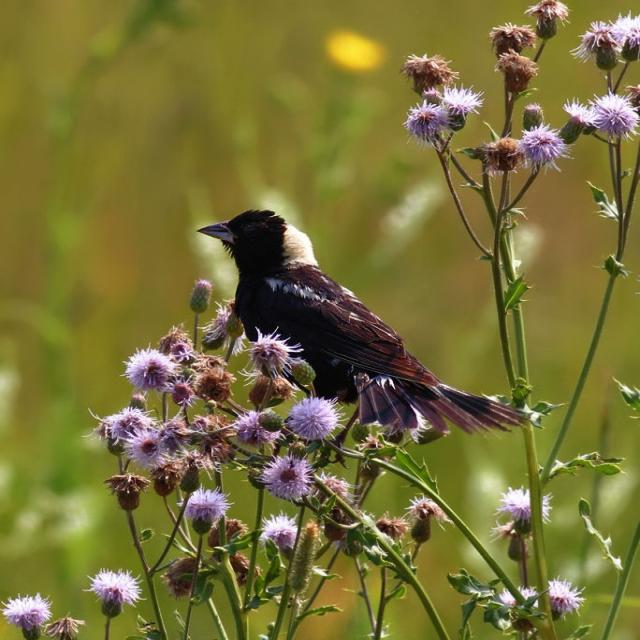bird: (193, 212, 548, 448)
